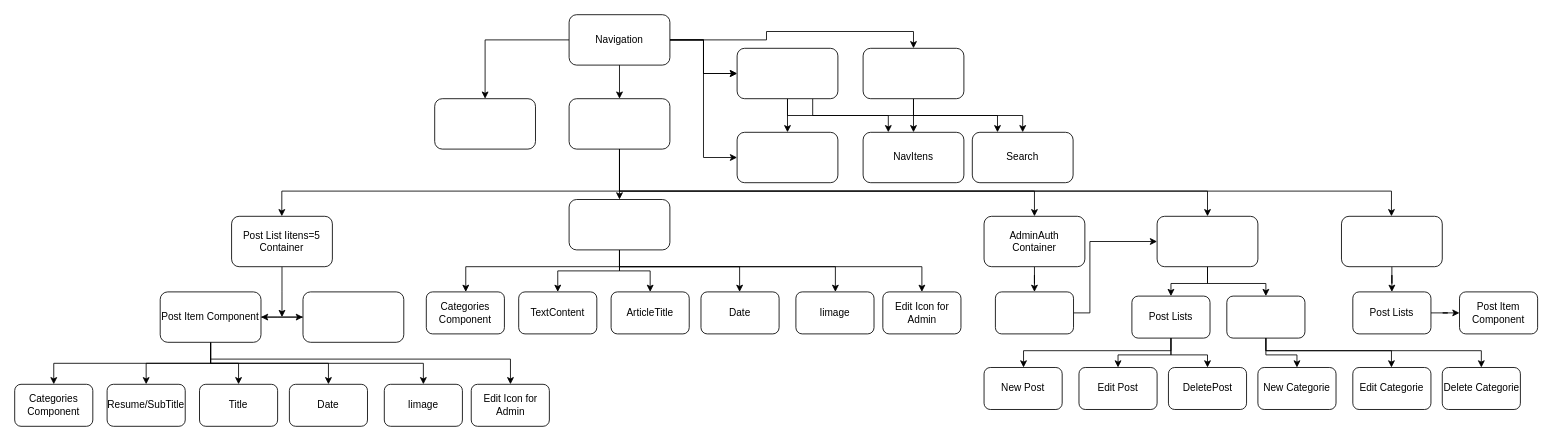
This 1552x441 diagram has some shape labels left out. The centre of each missing label's shape, as x and y in pixels:
"AdminPage Container" goes at point (1207, 241).
"Article Container" goes at point (619, 224).
"Categories Lists" goes at point (1265, 316).
"Containers" goes at point (619, 123).
"First Post Item/BigCard" goes at point (353, 316).
"Login Password Component" goes at point (1034, 312).
"NavBar" goes at point (913, 73).
"Navigation Path" goes at point (485, 123).
"SearchPage" goes at point (1391, 241).
"SideBar Categories" goes at point (787, 157).
"SideBar mobile" goes at point (787, 73).
